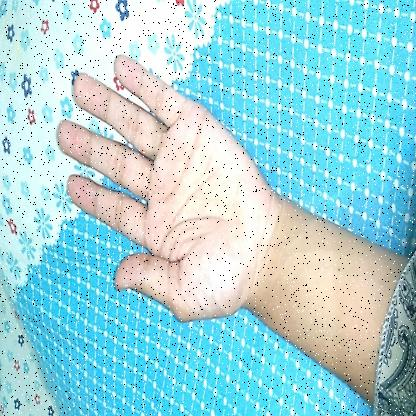hand: (53, 44, 348, 380)
